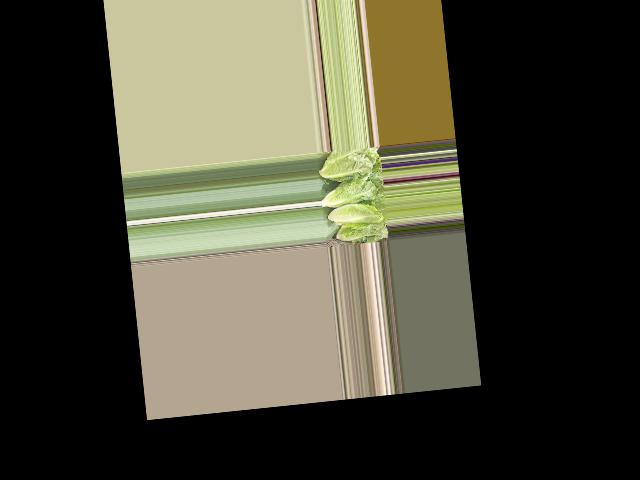lettuce: (337, 221, 388, 242)
